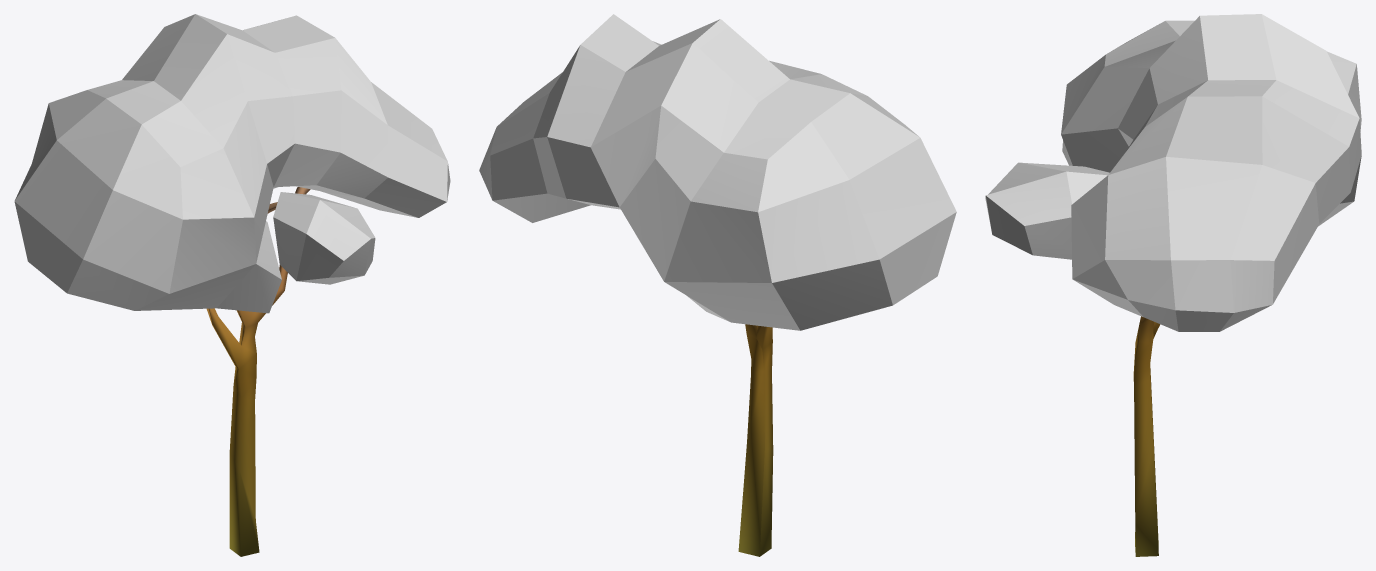
File: tree.glb
The picture shows the model from 3 angles, left to right: view 1: azimuth 30°, elevation 25°; view 2: azimuth 150°, elevation 25°; view 3: azimuth 270°, elevation 25°; orthographic projection. The views are drawn at different scales.
Parts seen in each view (by area): view 1: foliage, trunk; view 2: foliage, trunk; view 3: foliage, trunk.
Boxes of the visible parts, <box> form: foliage: <box>14,14,450,313</box>; trunk: <box>206,187,310,556</box>; foliage: <box>479,14,956,330</box>; trunk: <box>738,324,773,556</box>; foliage: <box>985,14,1361,331</box>; trunk: <box>1133,316,1160,556</box>.
Size of the model in its own units: 4.89 by 6.07 by 3.84.
Materials: 1 (1 with a texture image).
